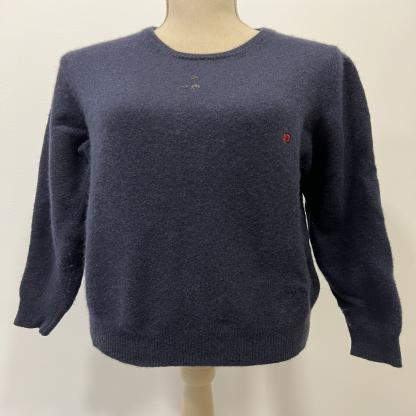stain: (189, 82, 203, 90), (189, 74, 200, 81), (179, 85, 190, 90), (188, 82, 193, 85)
